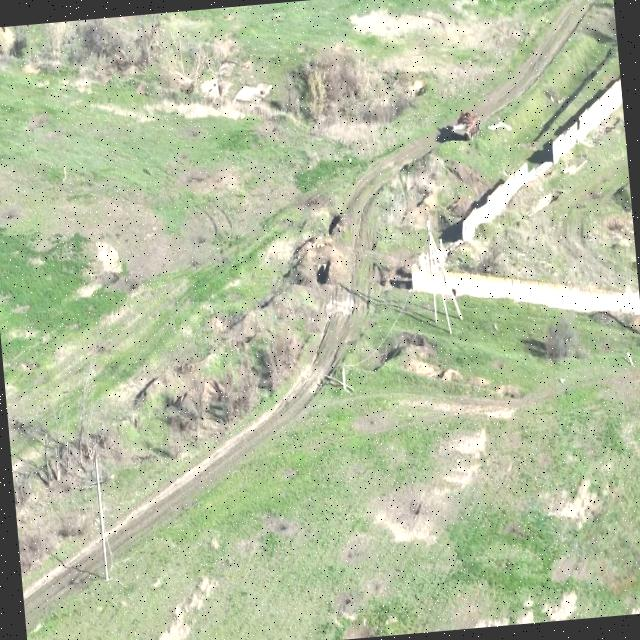AIFV: (449, 109, 483, 146)
